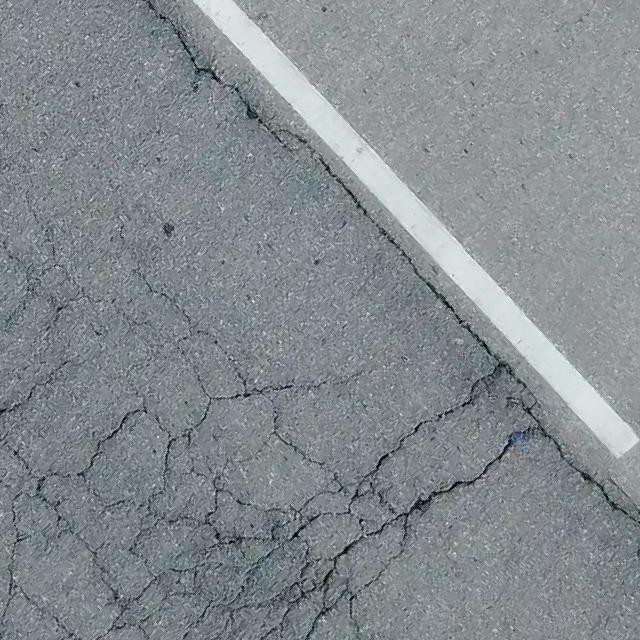GRIETA: (283, 130, 496, 356), (146, 0, 292, 148), (557, 451, 639, 525)
PIEL DE COCODRILO: (0, 217, 568, 639)
